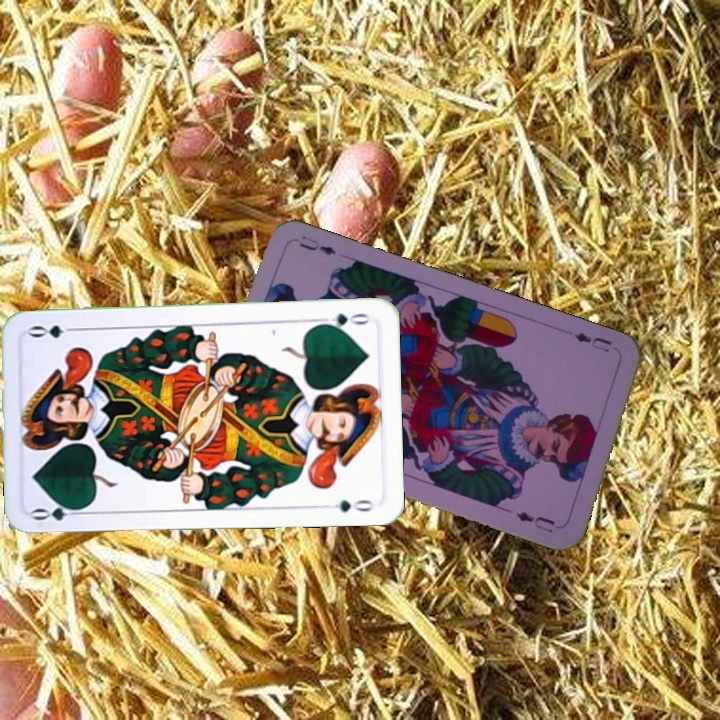EU: (570, 328, 615, 356)
GO: (29, 498, 88, 523), (314, 309, 373, 332)
